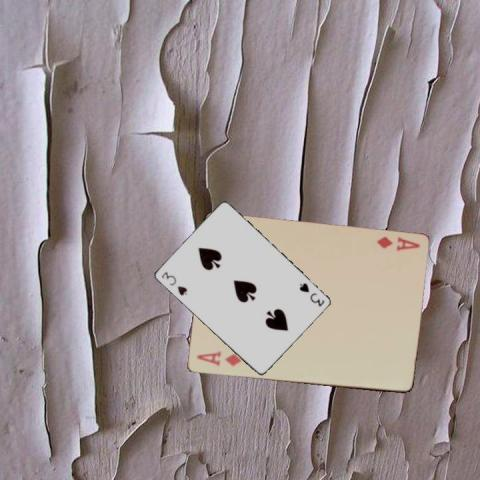3s: (158, 268, 188, 296), (296, 280, 325, 308)
Ad: (193, 349, 243, 368), (374, 234, 422, 252)
